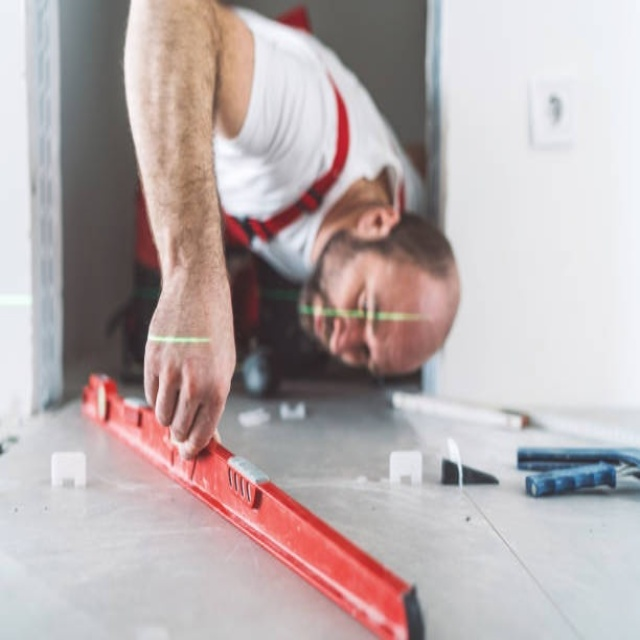Sin_gafas: (351, 257, 387, 375)
Sin_guantes: (142, 294, 233, 458)
Sin_mascara: (299, 275, 347, 359)
